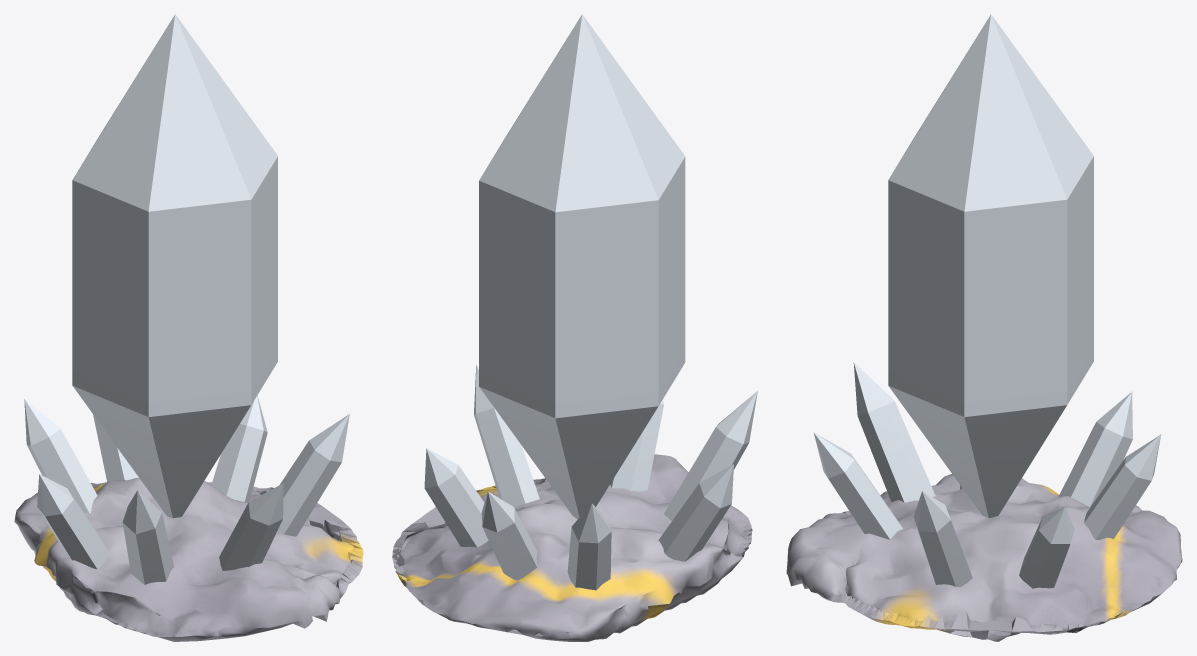
File: cristal_genesis.fbx
3 renders of one model, left to right at view 1: azimuth 30°, elevation 25°; view 2: azimuth 150°, elevation 25°; view 3: azimuth 270°, elevation 25°, orthographic.
Parts seen in each view (by area): view 1: cristal_genesis_cristal, cristal_genesis; view 2: cristal_genesis_cristal, cristal_genesis; view 3: cristal_genesis_cristal, cristal_genesis.
Part boxes in pixels (x1,y1,x2,y2): cristal_genesis_cristal: [24, 14, 349, 584]; cristal_genesis: [14, 478, 363, 641]; cristal_genesis_cristal: [424, 14, 757, 590]; cristal_genesis: [392, 454, 752, 641]; cristal_genesis_cristal: [813, 14, 1161, 588]; cristal_genesis: [786, 474, 1182, 641].
Bounding box in the file's own units: 2.56 × 4.51 × 2.89.
Materials: 3 (3 with a texture image).
